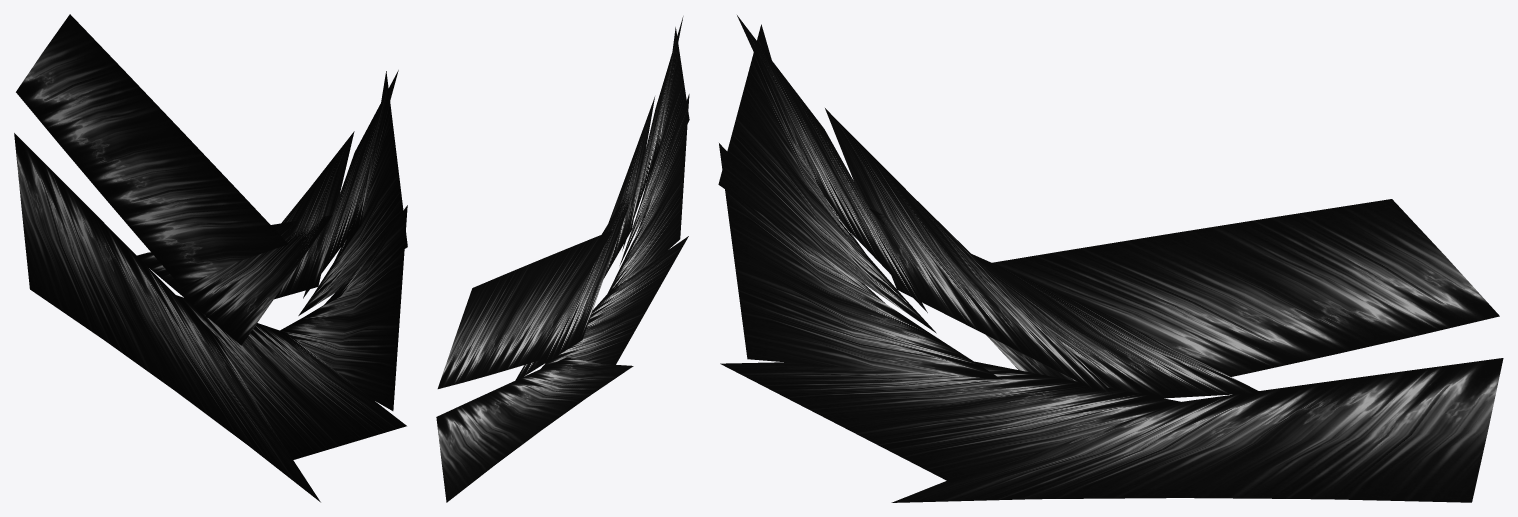
Rendered from FX_lfl_wuqi_366_liuguang01.FBX.
3 renders of one model, left to right at view 1: azimuth 30°, elevation 25°; view 2: azimuth 150°, elevation 25°; view 3: azimuth 270°, elevation 25°, orthographic. The views are drawn at different scales.
Parts seen in each view (by area): view 1: Plane005; view 2: Plane005; view 3: Plane005.
Part boxes in pixels (x1=…): Plane005: x1=14, y1=14, x2=407, y2=502; Plane005: x1=436, y1=16, x2=689, y2=502; Plane005: x1=718, y1=15, x2=1503, y2=502.
Bounding box in the file's own units: 4.94e-06 × 32.11 × 46.73.
1 material, 1 textured.
